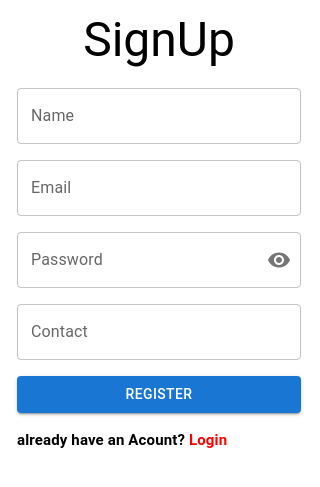
Test: Register Page unit Tests › Testing scenario should show error for password validation at least 5 characters
Type "Test" into the password field labelled "Password".
click(134, 260); type("Test")  # box [17,232,251,288]
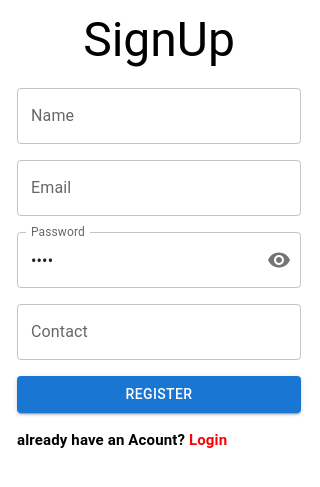
Leave the password field labelled "Password", box [17,232,251,288]
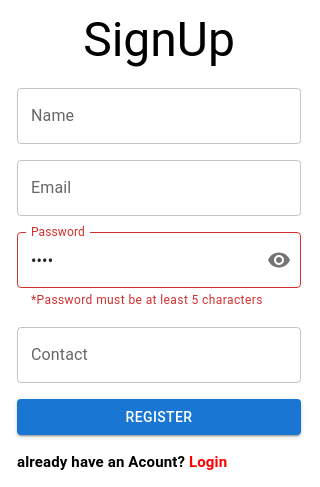
Now the text "*Password must be at least 5 characters" is shown, box [31,291,287,311]
